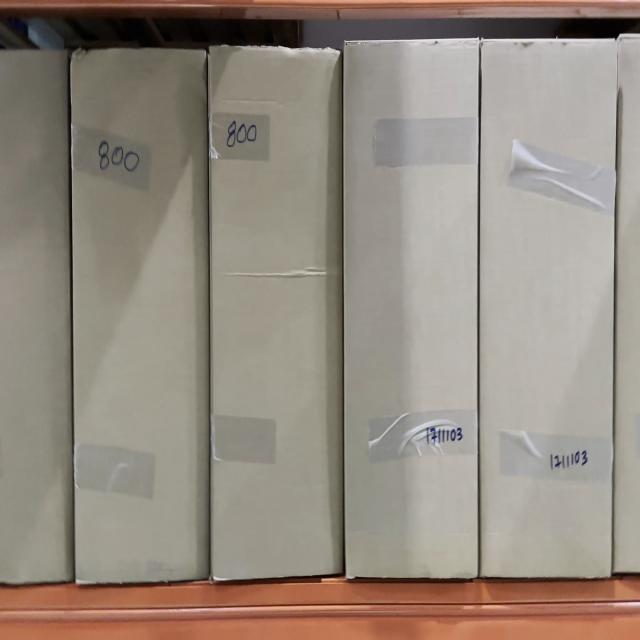box: (72, 54, 208, 582), (347, 45, 480, 573), (484, 38, 614, 576), (214, 49, 342, 576)
